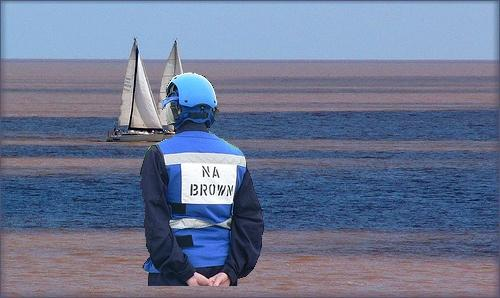tampered: (141, 73, 264, 286)
